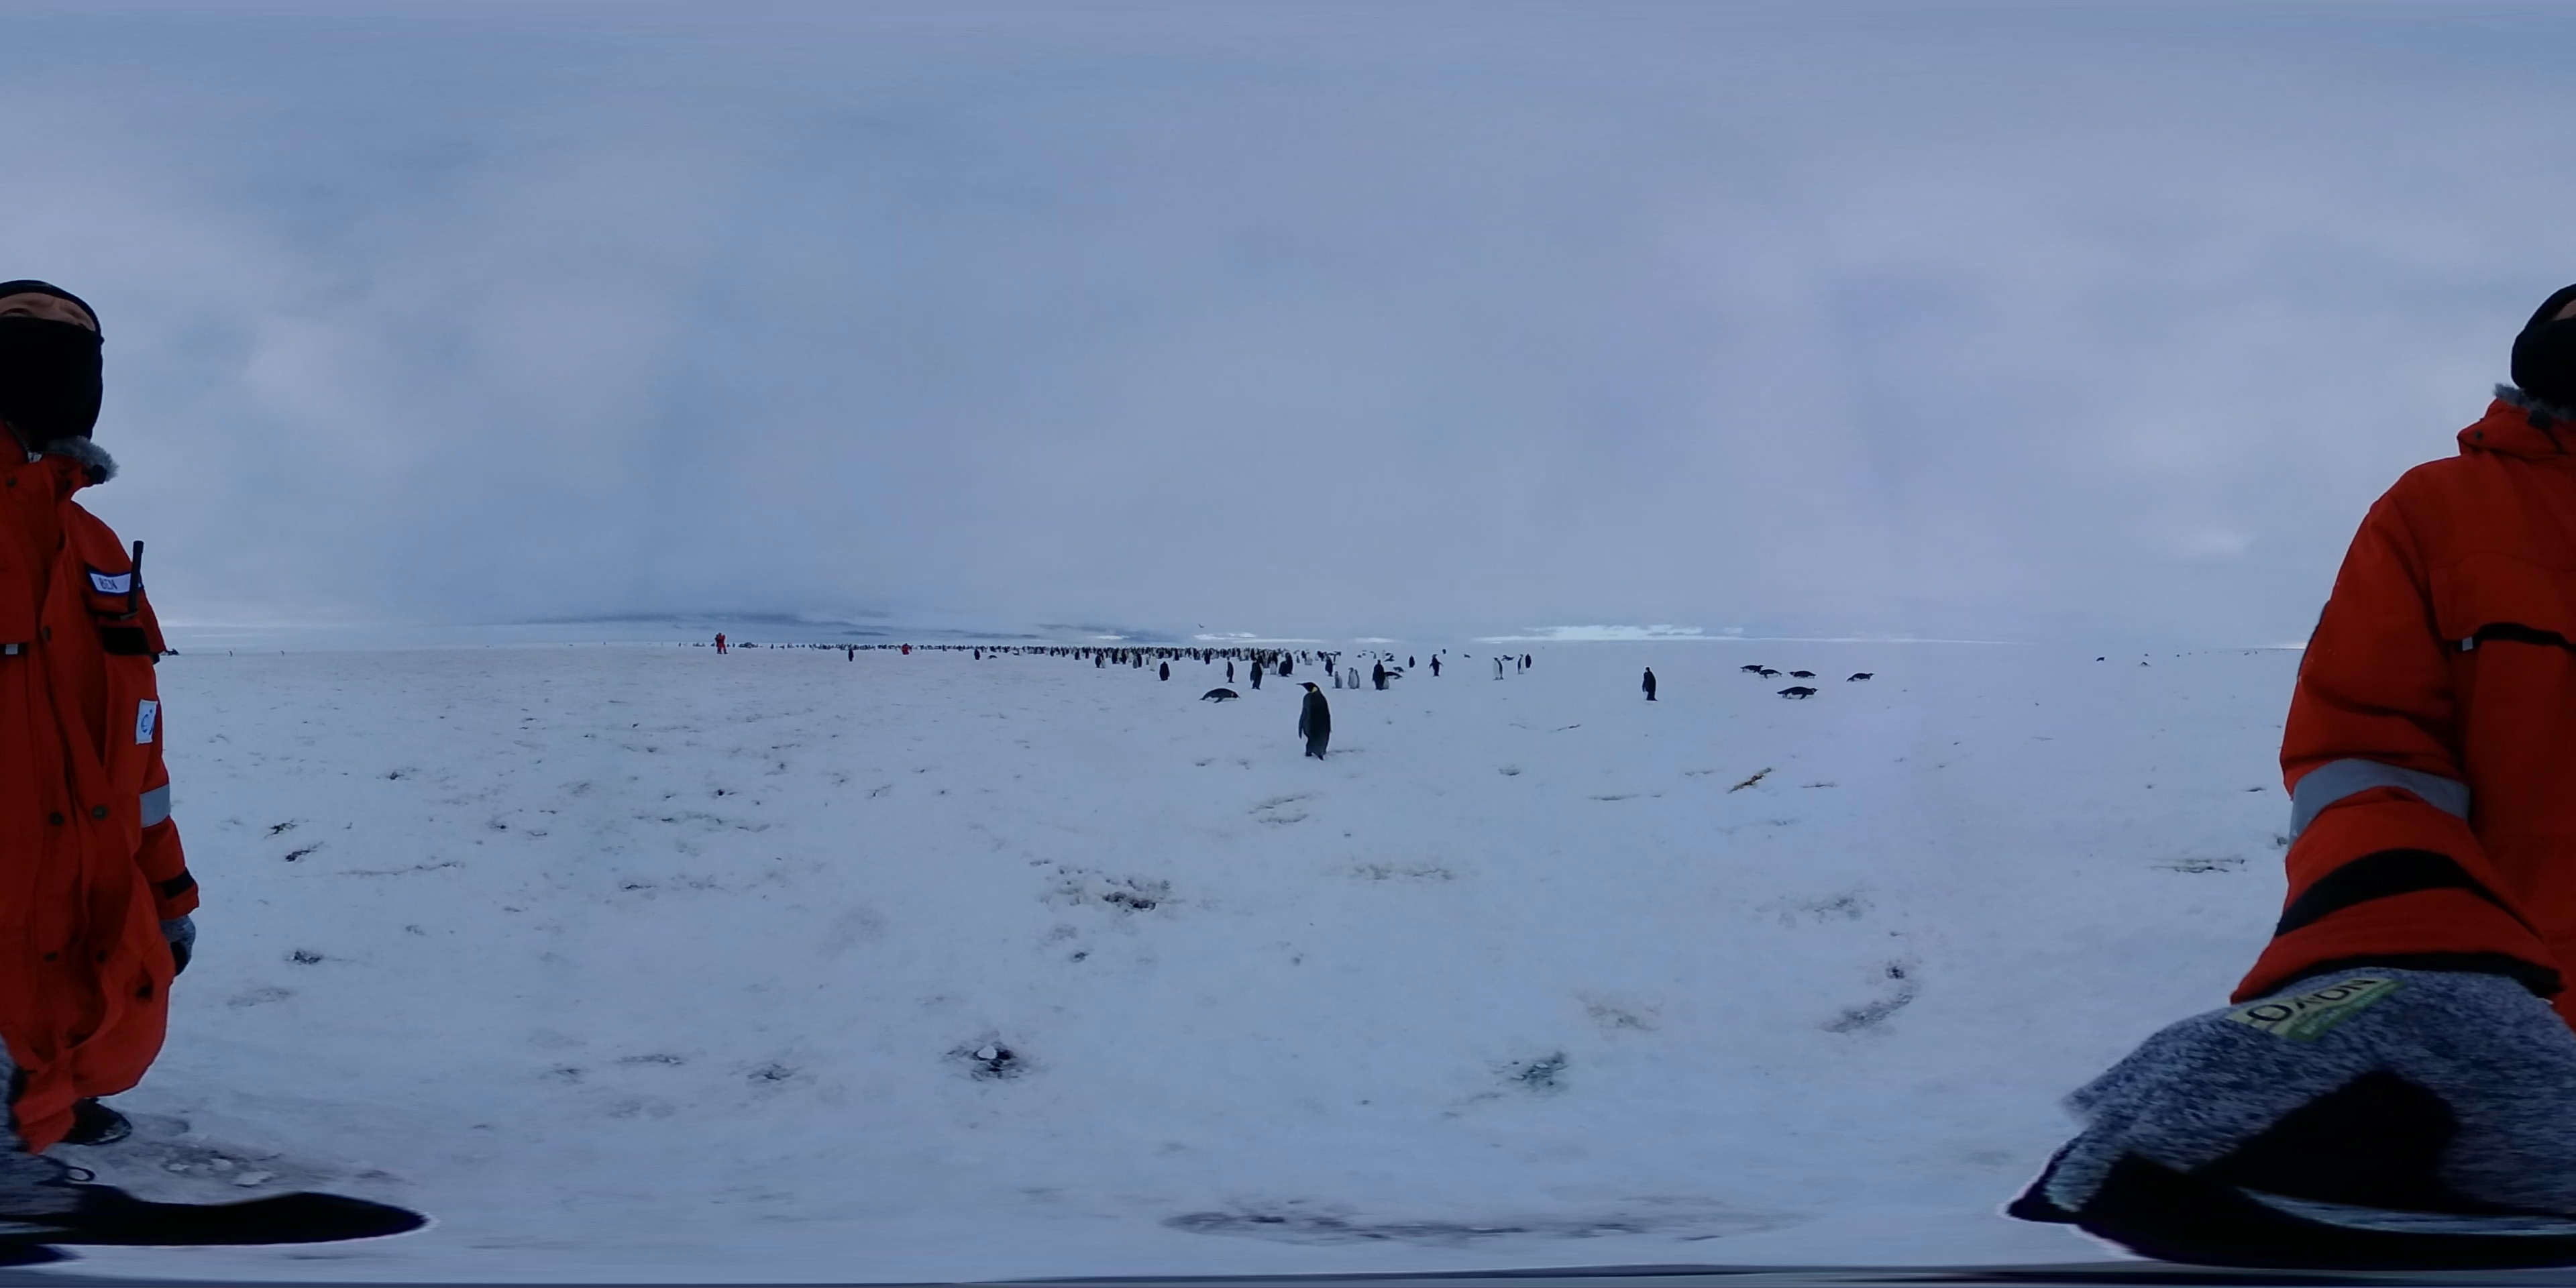adult_standing_penguin: (1291, 678, 1336, 761), (1640, 665, 1659, 705), (1247, 659, 1267, 693), (1372, 659, 1388, 692), (1428, 654, 1444, 680), (1492, 659, 1506, 683), (1157, 659, 1171, 682), (1224, 660, 1237, 683), (1518, 654, 1529, 675)
adult_toboggan_penguin: (1774, 685, 1822, 701), (1198, 687, 1240, 705), (1843, 670, 1876, 683), (1738, 662, 1764, 675), (1756, 665, 1782, 678), (1787, 669, 1814, 682), (1382, 674, 1405, 682)
juvenile_penguin: (1347, 665, 1360, 692), (1331, 670, 1345, 688)
researcher: (2187, 246, 2576, 1196), (0, 248, 238, 1252), (713, 632, 728, 652)
